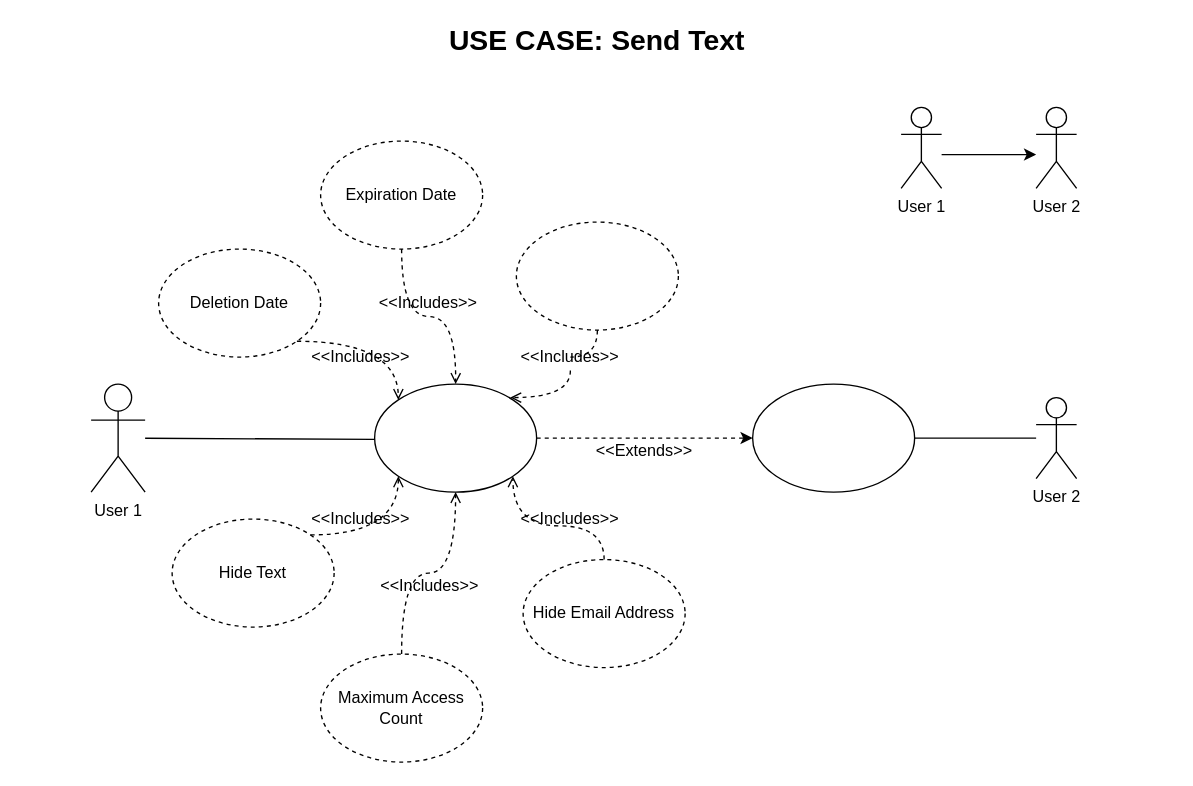
Some shapes in this 1193 by 786 pixel diagram are drawn without their labels. Each missing label, with the centre of its shape:
"Password" belongs at point (596, 275).
"Recieve Text" belongs at point (833, 437).
"Sent Text" belongs at point (455, 437).
